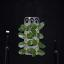leaf: (29, 48, 37, 57), (30, 26, 36, 36), (37, 22, 45, 29), (37, 32, 44, 40), (30, 38, 38, 45), (37, 49, 45, 56), (17, 42, 27, 47), (18, 25, 26, 31), (29, 23, 37, 29), (27, 39, 33, 46), (38, 42, 45, 48), (18, 33, 26, 38), (18, 50, 26, 54), (26, 48, 32, 53), (26, 34, 32, 38), (26, 25, 29, 31)
